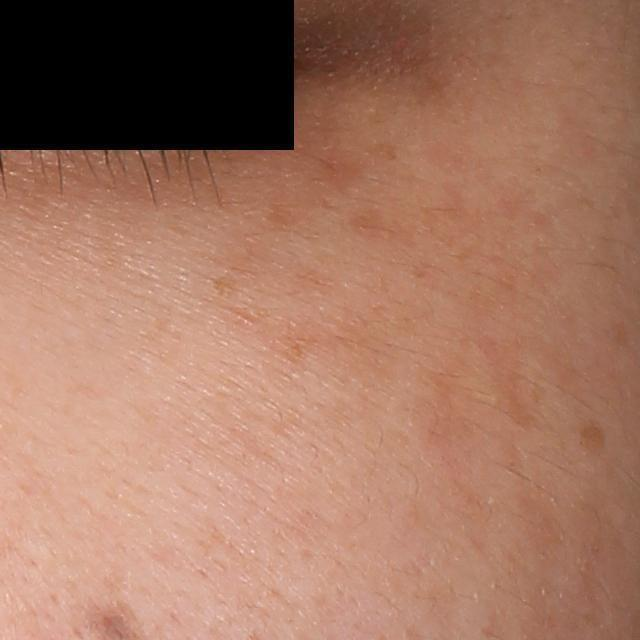melasma: (313, 139, 403, 201), (577, 420, 611, 453), (210, 276, 240, 299)
